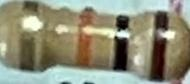Black: (110, 14, 133, 72)
Brown: (147, 11, 172, 81)
Orange: (74, 13, 98, 69)
Side-Silver: (15, 0, 41, 72)
